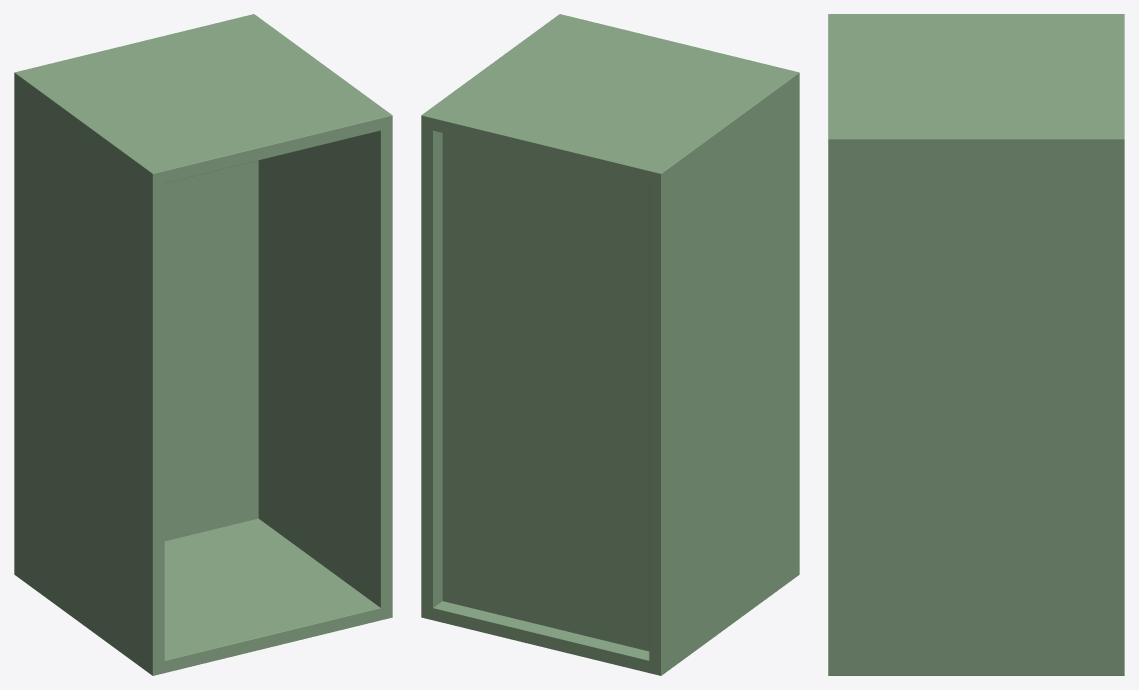
File: MOD-1X2-A-B-SA.glb
3 views of the same model, side by side, from view 1: azimuth 30°, elevation 25°; view 2: azimuth 150°, elevation 25°; view 3: azimuth 270°, elevation 25° (orthographic). The views are drawn at different scales.
Size of the model in its own units: 360 by 720 by 360.
